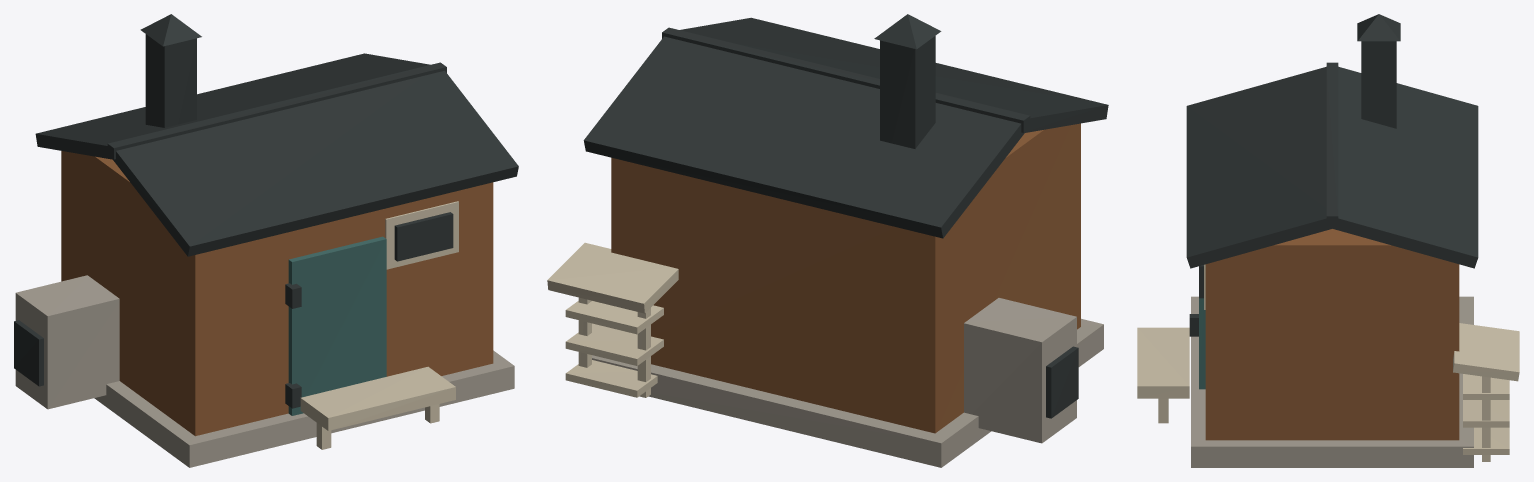
Rendered from wood-fired-sauna.source.glb.
3 renders of one model, left to right at view 1: azimuth 30°, elevation 25°; view 2: azimuth 150°, elevation 25°; view 3: azimuth 270°, elevation 25°, orthographic. The views are drawn at different scales.
Visible parts, largest first — view 1: wood-fired-sauna-timber-cabin-shell-mesh, wood-fired-sauna-pitched-roof-panel-0.82-mesh, wood-fired-sauna-teal-entry-door-panel-mesh, wood-fired-sauna-exterior-stove-surround-mesh, wood-fired-sauna-stone-foundation-mesh, wood-fired-sauna-pitched-roof-panel--0.82-mesh, wood-fired-sauna-short-cooling-bench-mesh, wood-fired-sauna-capped-chimney-stack-mesh, wood-fired-sauna-roof-ridge-mesh, wood-fired-sauna-small-high-window-mesh, wood-fired-sauna-cream-window-frame-mesh, wood-fired-sauna-stove-access-door-mesh (+1 smaller); view 2: wood-fired-sauna-timber-cabin-shell-mesh, wood-fired-sauna-pitched-roof-panel--0.82-mesh, wood-fired-sauna-stone-foundation-mesh, wood-fired-sauna-exterior-stove-surround-mesh, wood-fired-sauna-pitched-roof-panel-0.82-mesh, wood-fired-sauna-rack-shed-roof-mesh, wood-fired-sauna-capped-chimney-stack-mesh, wood-fired-sauna-roof-ridge-mesh, wood-fired-sauna-empty-firewood-rack-shelf-0.58-mesh, wood-fired-sauna-empty-firewood-rack-shelf-0.22-mesh, wood-fired-sauna-empty-firewood-rack-shelf-0.94-mesh, wood-fired-sauna-stove-access-door-mesh (+2 smaller); view 3: wood-fired-sauna-timber-cabin-shell-mesh, wood-fired-sauna-pitched-roof-panel-0.82-mesh, wood-fired-sauna-pitched-roof-panel--0.82-mesh, wood-fired-sauna-stone-foundation-mesh, wood-fired-sauna-short-cooling-bench-mesh, wood-fired-sauna-rack-shed-roof-mesh, wood-fired-sauna-capped-chimney-stack-mesh, wood-fired-sauna-roof-ridge-mesh, wood-fired-sauna-empty-firewood-rack-shelf-0.58-mesh, wood-fired-sauna-chimney-cap-mesh, wood-fired-sauna-empty-firewood-rack-shelf-0.94-mesh, wood-fired-sauna-empty-firewood-rack-shelf-0.22-mesh (+2 smaller).
Boxes of the visible parts, x1,y1,x2,y2 form: wood-fired-sauna-timber-cabin-shell-mesh: (61, 151, 493, 436); wood-fired-sauna-pitched-roof-panel-0.82-mesh: (113, 70, 518, 256); wood-fired-sauna-teal-entry-door-panel-mesh: (288, 236, 386, 415); wood-fired-sauna-exterior-stove-surround-mesh: (15, 275, 119, 409); wood-fired-sauna-stone-foundation-mesh: (94, 350, 514, 467); wood-fired-sauna-pitched-roof-panel--0.82-mesh: (35, 53, 430, 159); wood-fired-sauna-short-cooling-bench-mesh: (300, 366, 455, 430); wood-fired-sauna-capped-chimney-stack-mesh: (145, 34, 196, 127); wood-fired-sauna-roof-ridge-mesh: (107, 62, 446, 159); wood-fired-sauna-small-high-window-mesh: (394, 212, 453, 261); wood-fired-sauna-cream-window-frame-mesh: (385, 201, 458, 269); wood-fired-sauna-stove-access-door-mesh: (14, 320, 43, 386); wood-fired-sauna-timber-cabin-shell-mesh: (611, 123, 1080, 433); wood-fired-sauna-pitched-roof-panel--0.82-mesh: (583, 36, 1025, 238); wood-fired-sauna-stone-foundation-mesh: (592, 318, 1103, 467); wood-fired-sauna-exterior-stove-surround-mesh: (964, 298, 1076, 443); wood-fired-sauna-pitched-roof-panel-0.82-mesh: (680, 17, 1108, 132); wood-fired-sauna-rack-shed-roof-mesh: (547, 242, 678, 313); wood-fired-sauna-capped-chimney-stack-mesh: (880, 36, 935, 148); wood-fired-sauna-roof-ridge-mesh: (662, 27, 1030, 132); wood-fired-sauna-empty-firewood-rack-shelf-0.58-mesh: (565, 323, 663, 365); wood-fired-sauna-empty-firewood-rack-shelf-0.22-mesh: (565, 360, 657, 397); wood-fired-sauna-empty-firewood-rack-shelf-0.94-mesh: (565, 301, 663, 334); wood-fired-sauna-stove-access-door-mesh: (1046, 346, 1078, 418); wood-fired-sauna-timber-cabin-shell-mesh: (1205, 229, 1459, 440); wood-fired-sauna-pitched-roof-panel-0.82-mesh: (1186, 66, 1339, 268); wood-fired-sauna-pitched-roof-panel--0.82-mesh: (1325, 66, 1478, 268); wood-fired-sauna-stone-foundation-mesh: (1191, 296, 1473, 467); wood-fired-sauna-short-cooling-bench-mesh: (1137, 327, 1189, 398); wood-fired-sauna-rack-shed-roof-mesh: (1453, 323, 1519, 381); wood-fired-sauna-capped-chimney-stack-mesh: (1361, 41, 1396, 128); wood-fired-sauna-roof-ridge-mesh: (1326, 62, 1338, 226); wood-fired-sauna-empty-firewood-rack-shelf-0.58-mesh: (1463, 400, 1509, 427); wood-fired-sauna-chimney-cap-mesh: (1357, 14, 1400, 41); wood-fired-sauna-empty-firewood-rack-shelf-0.94-mesh: (1463, 374, 1509, 399); wood-fired-sauna-empty-firewood-rack-shelf-0.22-mesh: (1463, 427, 1509, 454).
Bounding box in the file's own units: 5.19 × 4.46 × 4.52.
